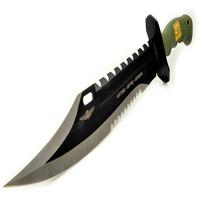knife: (1, 14, 192, 192)
